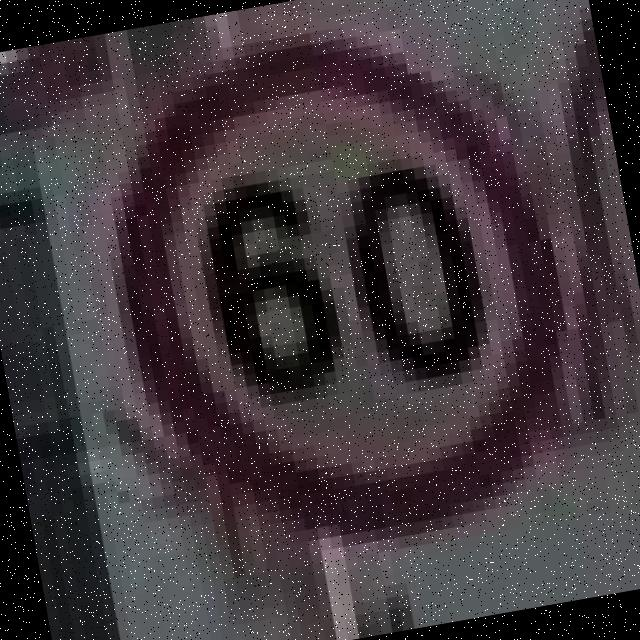Ograniczenie predkosci do 60: (64, 0, 584, 568)
